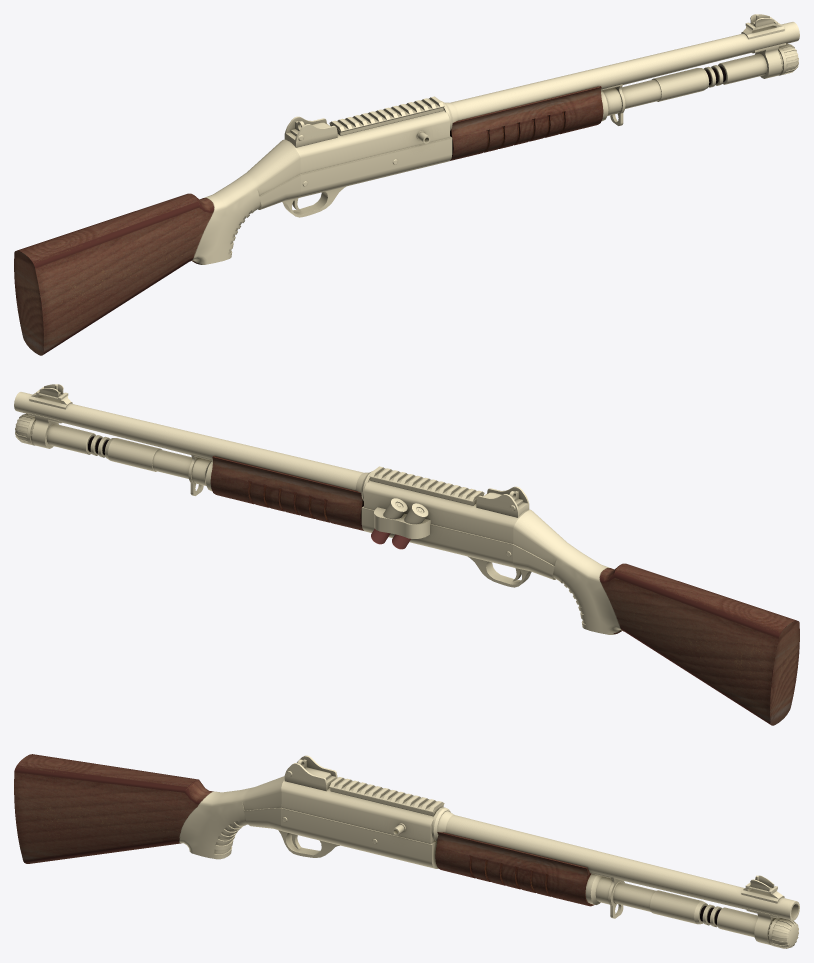
Rendered from weapon_6_5.gltf.
3 views of the same model, one above another, from view 1: azimuth 30°, elevation 25°; view 2: azimuth 150°, elevation 25°; view 3: azimuth 330°, elevation 25° (orthographic).
Parts seen in each view (by area): view 1: Cube.002_Cube.008; view 2: Cube.002_Cube.008; view 3: Cube.002_Cube.008.
Boxes of the visible parts, <box> form: Cube.002_Cube.008: <box>14,14,799,355</box>; Cube.002_Cube.008: <box>14,384,799,725</box>; Cube.002_Cube.008: <box>14,754,799,948</box>.
Bounding box in the file's own units: 9.06 × 1.87 × 0.7125.
1 material, 1 textured.
